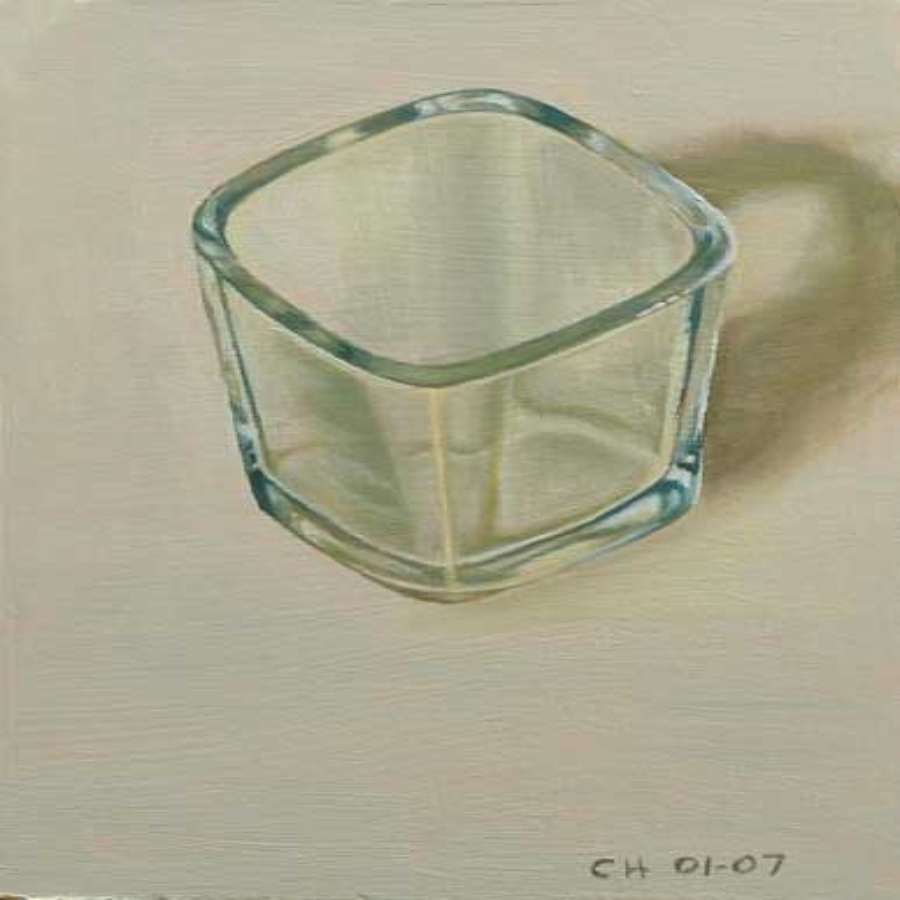whiskey: (187, 96, 712, 576)
